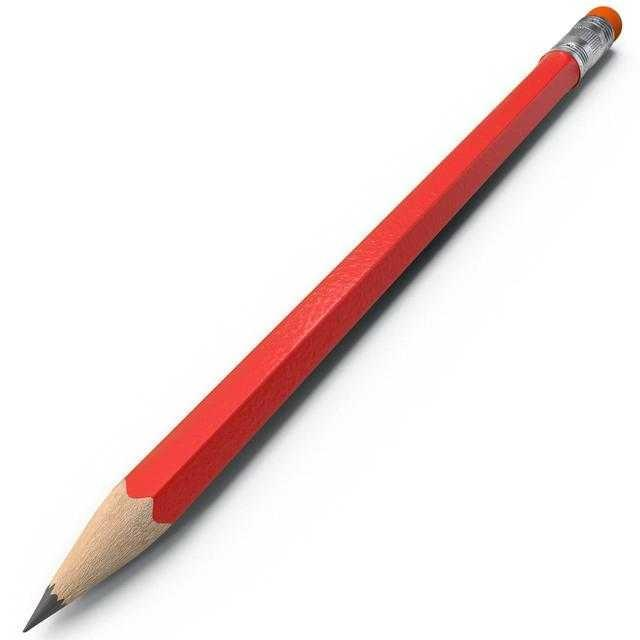pencil: (12, 2, 633, 637)
